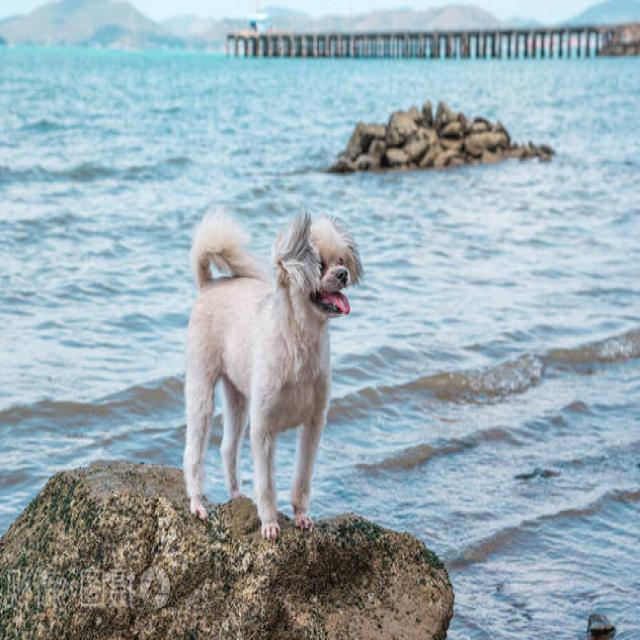fishing boat: (293, 65, 545, 184)
